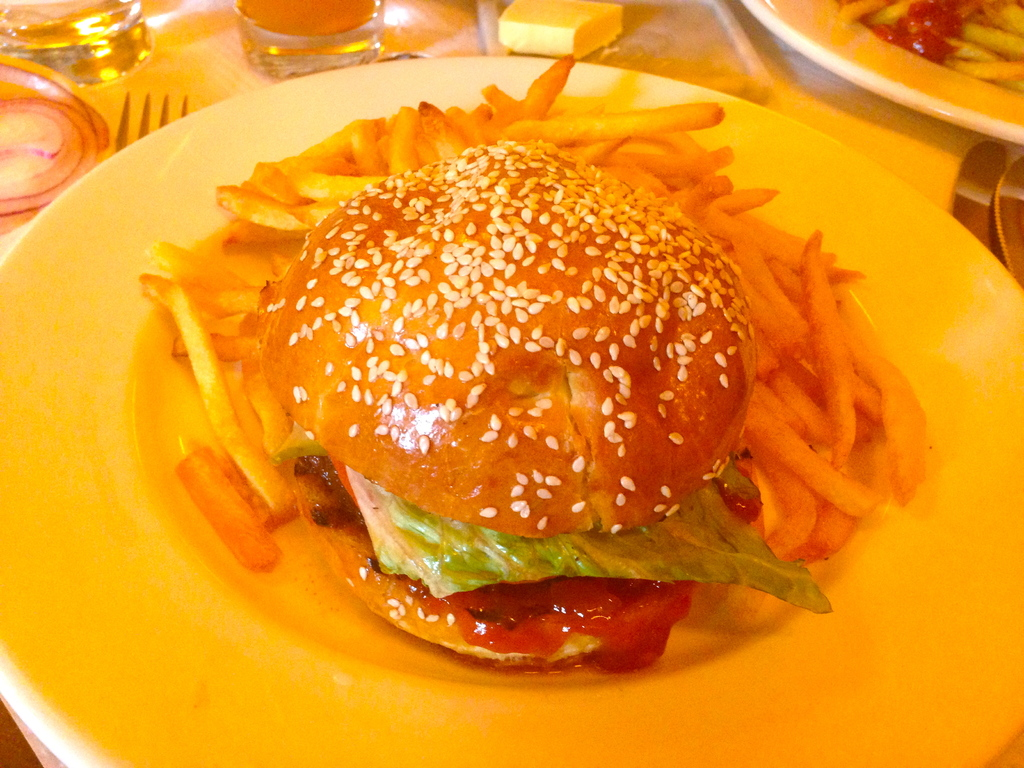Hamburger: (254, 144, 835, 672)
